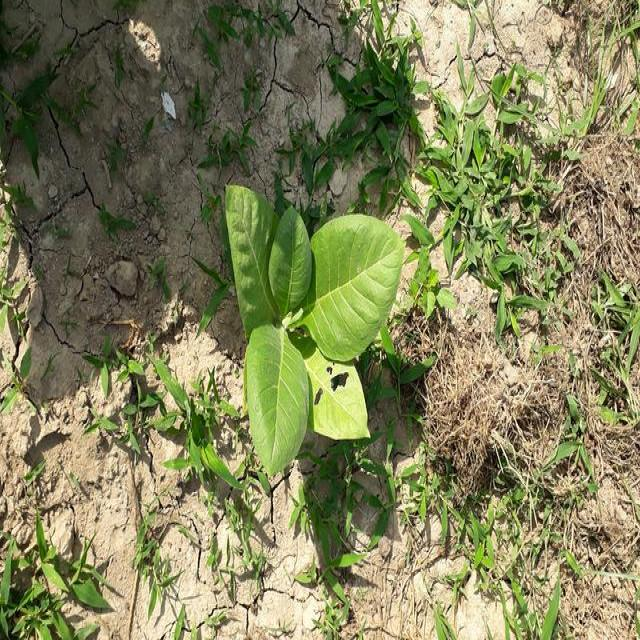crop: (225, 180, 396, 480)
